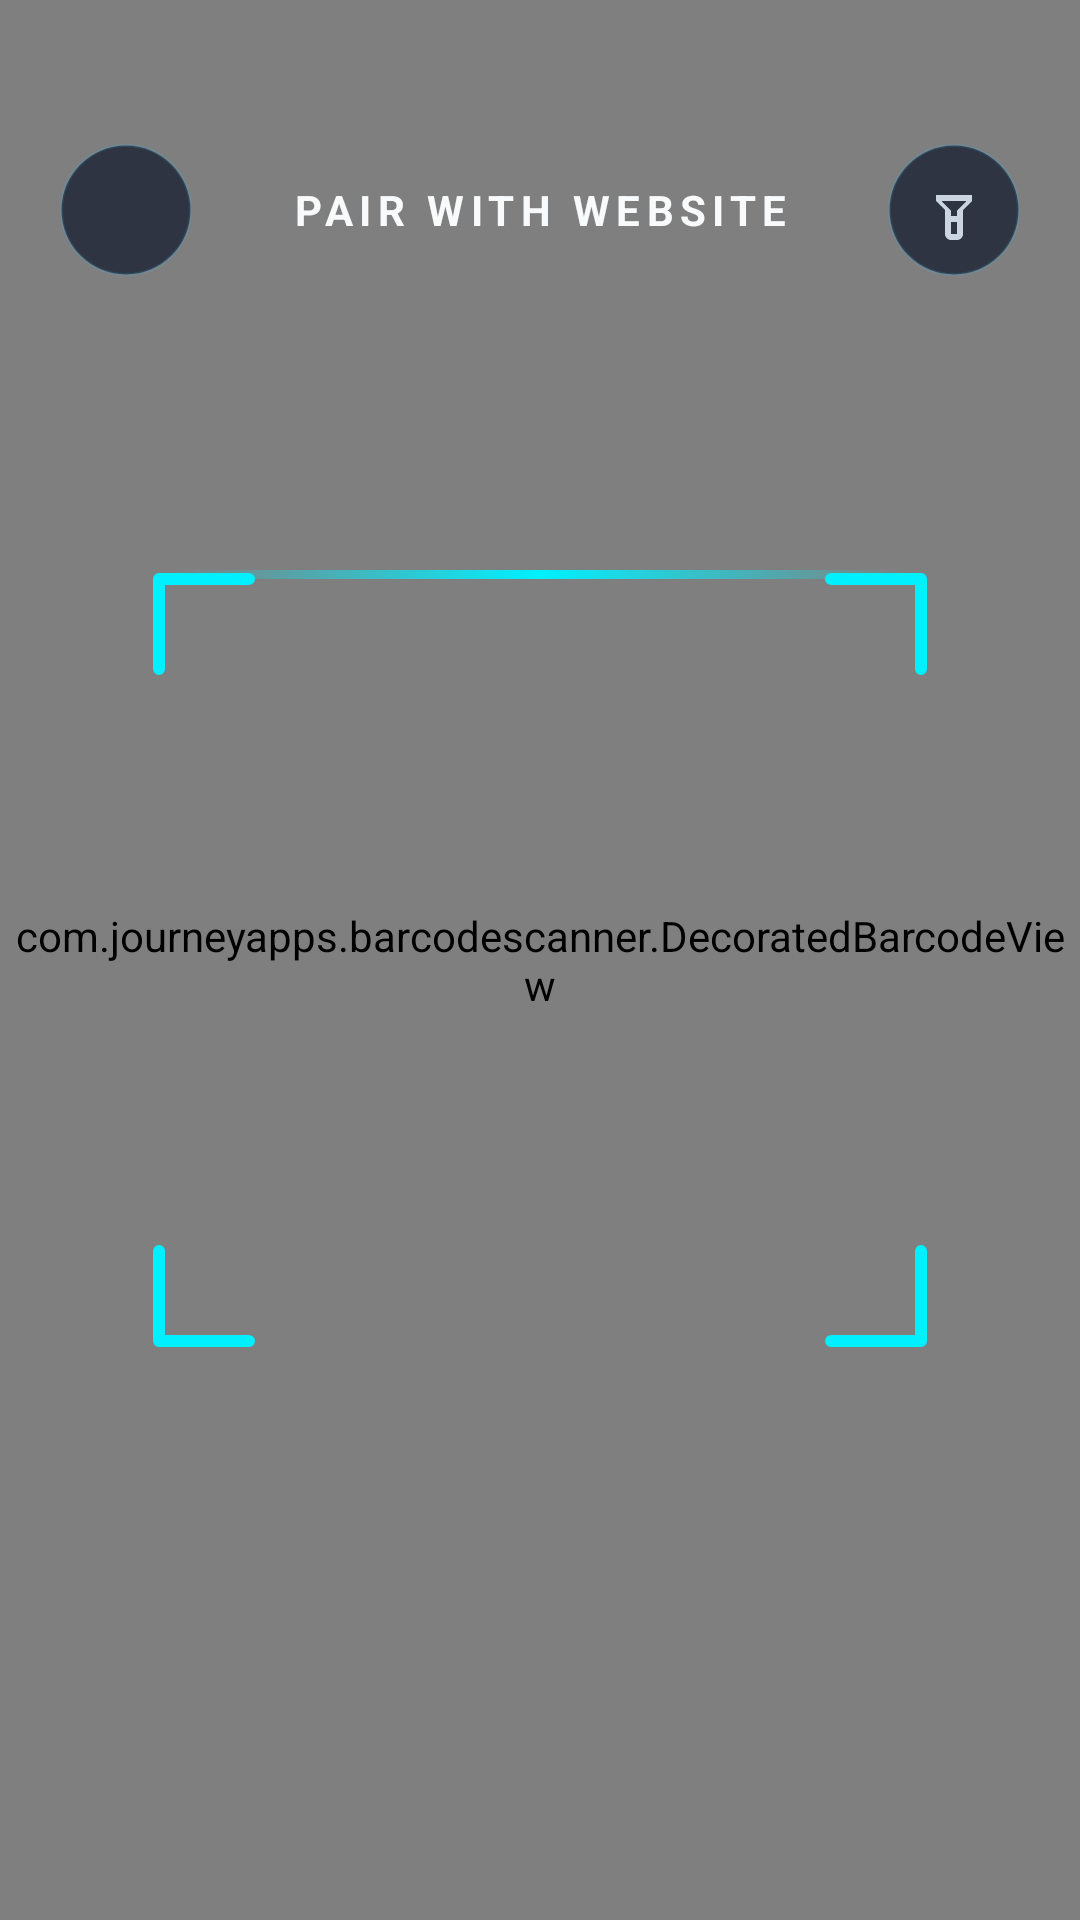

Icon click points for this 1080px x 1920px phone screenshot, format (x=x, y=y):
Flashlight: (x=954, y=210)
